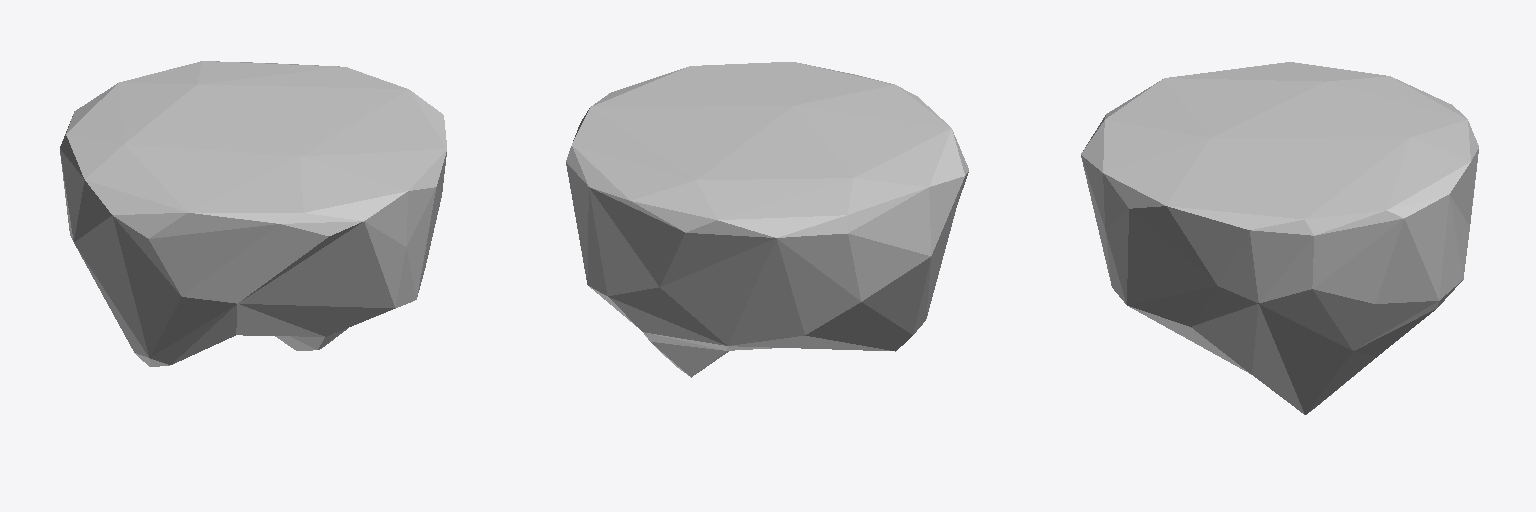
Rendered from island2Lo.obj.
3 renders of one model, left to right at view 1: azimuth 30°, elevation 25°; view 2: azimuth 150°, elevation 25°; view 3: azimuth 270°, elevation 25°, orthographic.
Parts seen in each view (by area): view 1: F3:GeoDome1_F3:GeoDome1_auv; view 2: F3:GeoDome1_F3:GeoDome1_auv; view 3: F3:GeoDome1_F3:GeoDome1_auv.
Boxes of the visible parts, x1,y1,x2,y2 form: F3:GeoDome1_F3:GeoDome1_auv: [60, 61, 446, 366]; F3:GeoDome1_F3:GeoDome1_auv: [566, 62, 968, 377]; F3:GeoDome1_F3:GeoDome1_auv: [1081, 62, 1478, 414].
Bounding box in the file's own units: 2.01 × 1.36 × 2.01.